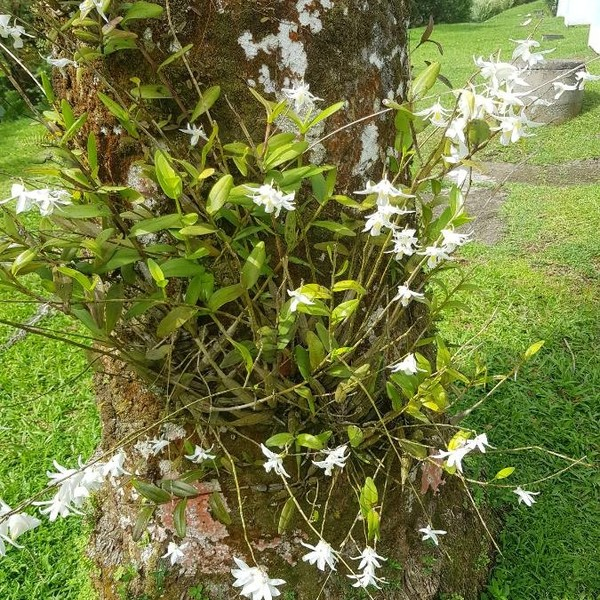obstacle: (47, 24, 486, 519)
